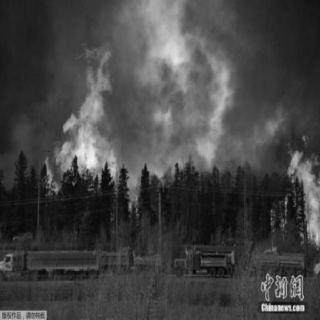Fire: (40, 40, 118, 179), (266, 138, 318, 244)
